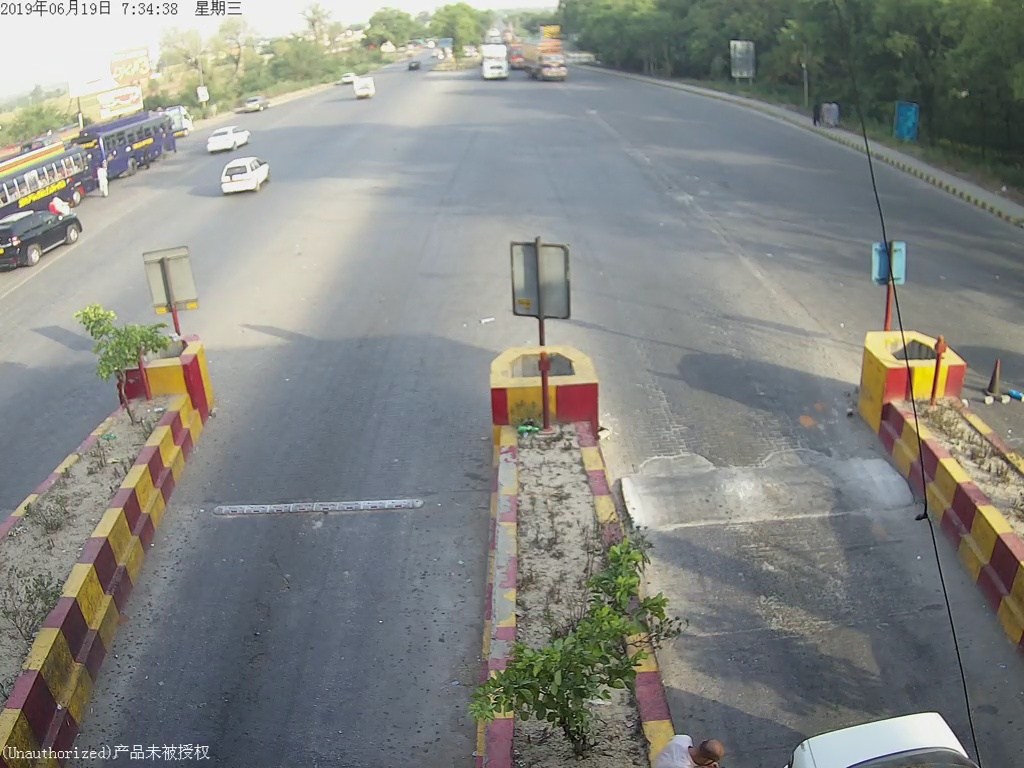Cat-4: (478, 46, 514, 85)
